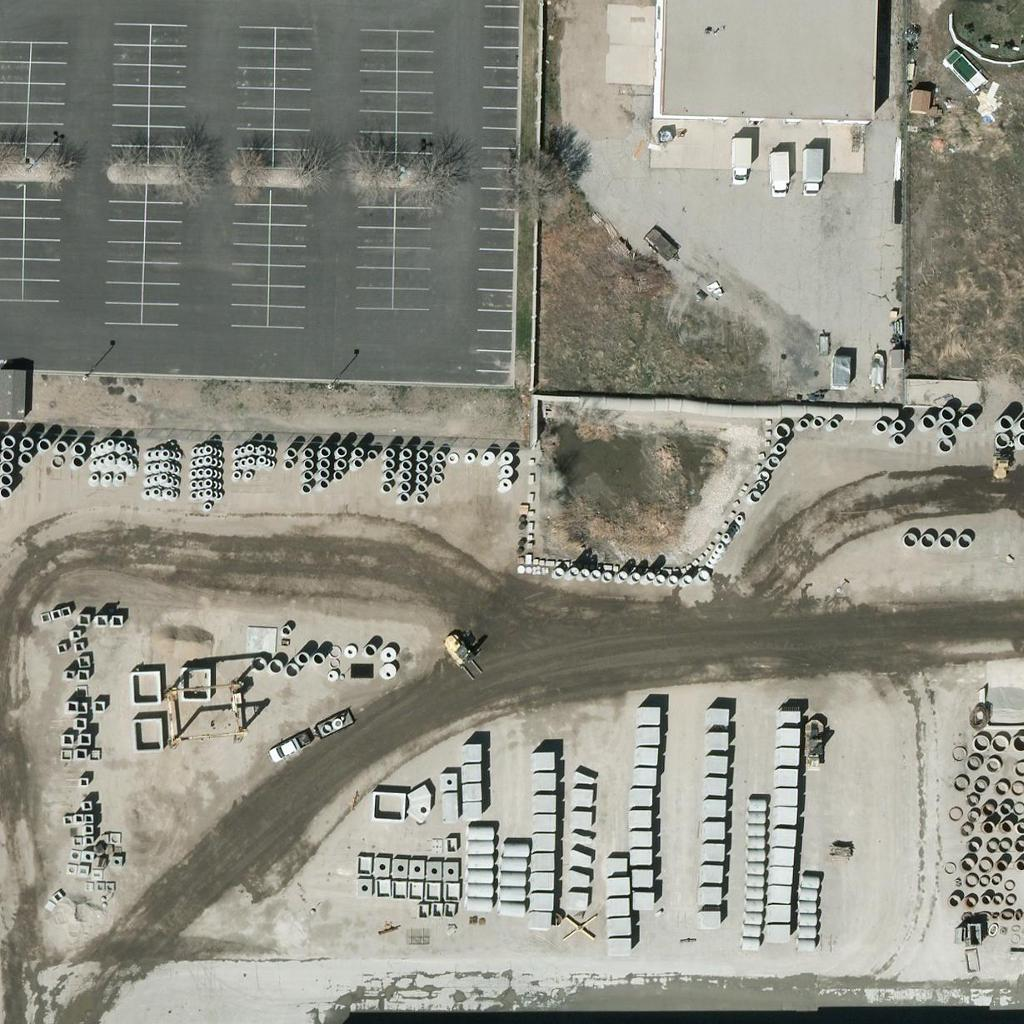car: (269, 730, 303, 764)
